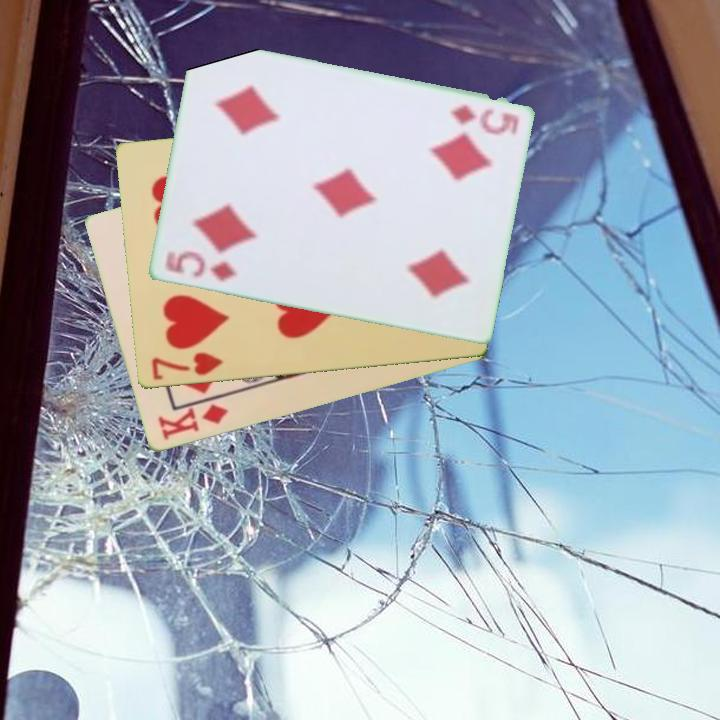5d: (160, 248, 239, 285), (445, 102, 514, 136)
7h: (148, 349, 226, 383)
Kd: (154, 400, 231, 444)
